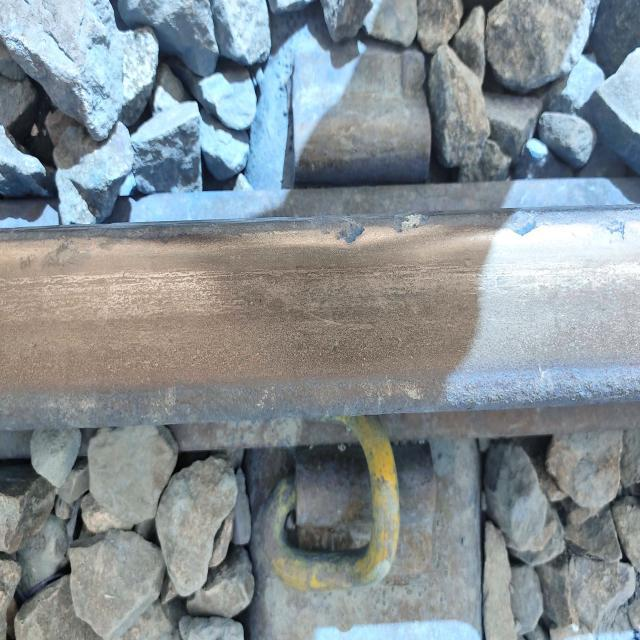Good Fasteners: (248, 416, 477, 631)
Missing Fastener: (256, 18, 431, 186)
